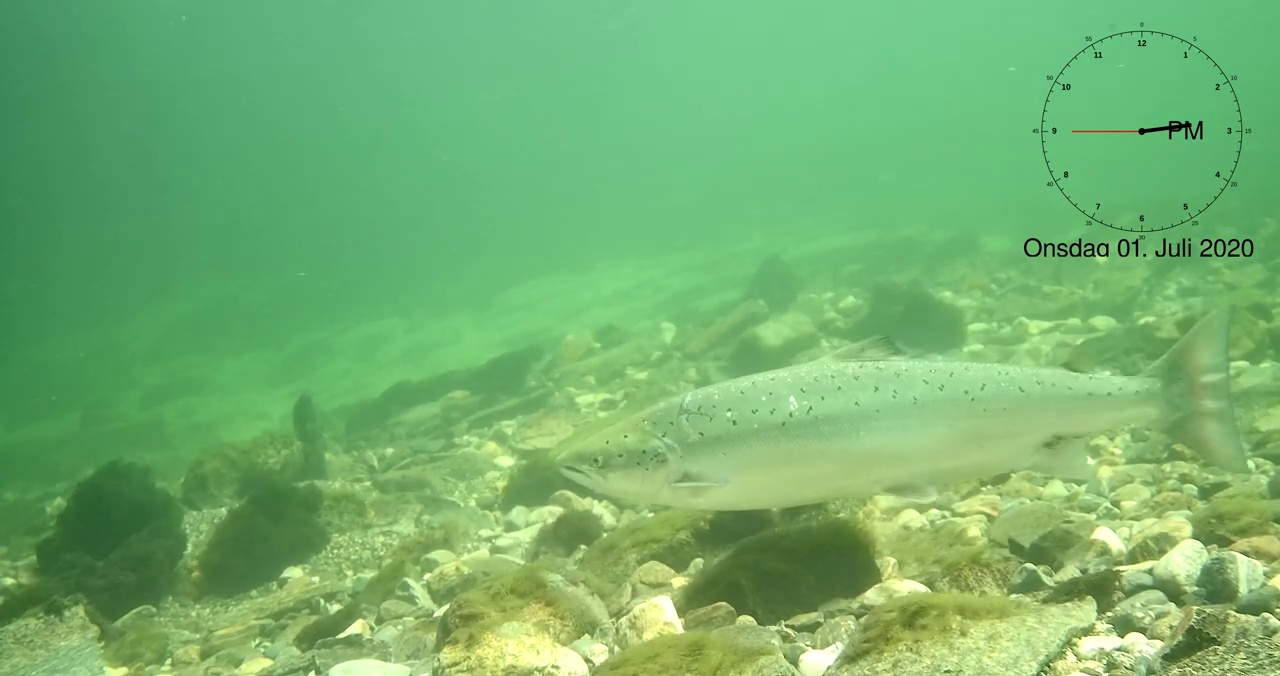salmon: (554, 297, 1256, 515)
